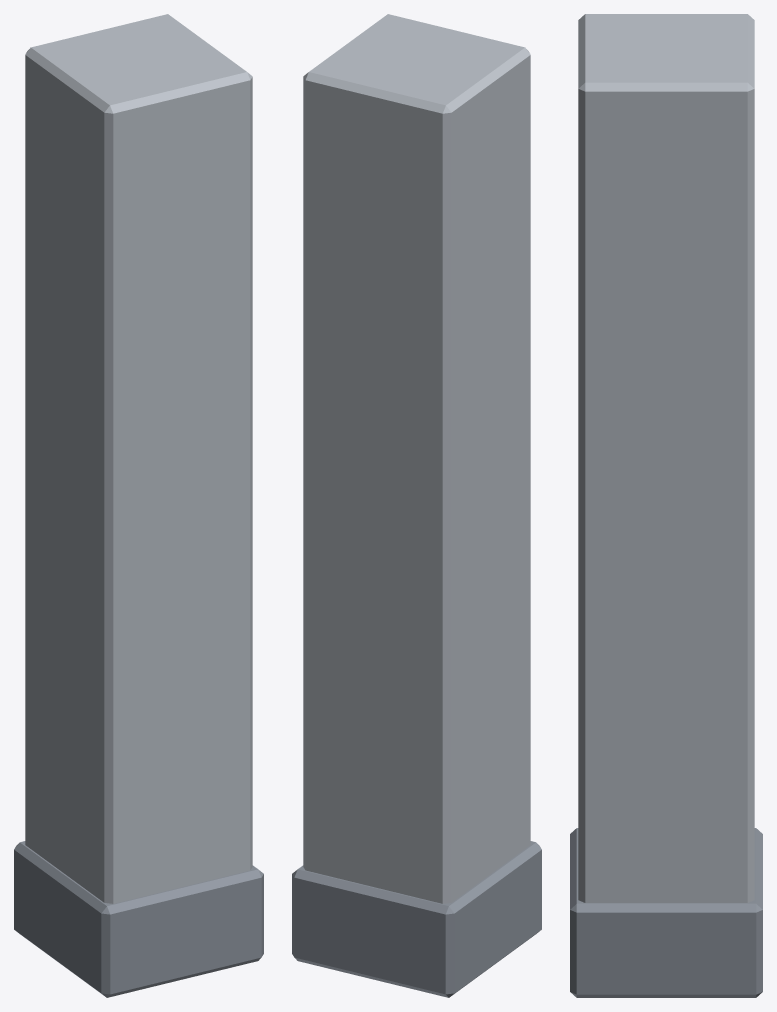
File: soco_h60_canto.glb
3 views of the same model, side by side, from view 1: azimuth 30°, elevation 25°; view 2: azimuth 150°, elevation 25°; view 3: azimuth 270°, elevation 25° (orthographic). The views are drawn at different scales.
Parts seen in each view (by area): view 1: soco_h60_canto; view 2: soco_h60_canto; view 3: soco_h60_canto.
Part boxes in pixels (x1,y1,x2,y2): soco_h60_canto: (14,14,263,997); soco_h60_canto: (292,14,541,997); soco_h60_canto: (570,14,762,997).
Bounding box in the file's own units: 0.115 × 0.6 × 0.115.
Materials: 1 (1 with a texture image).
